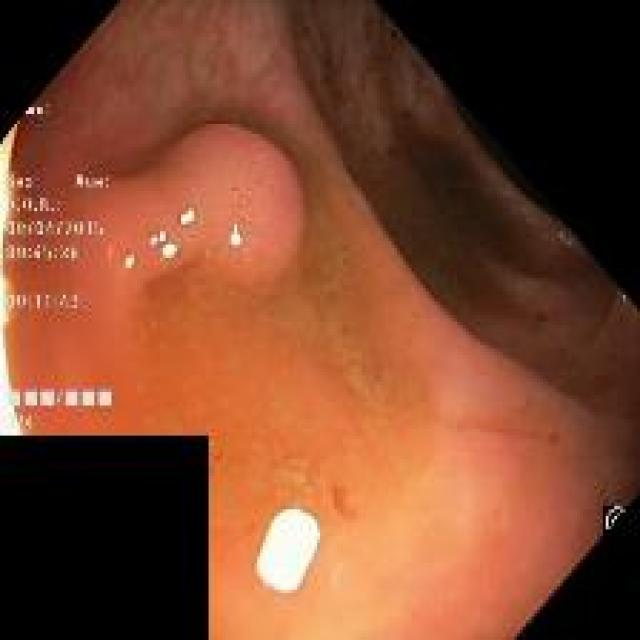Polyps: (145, 125, 304, 290)
